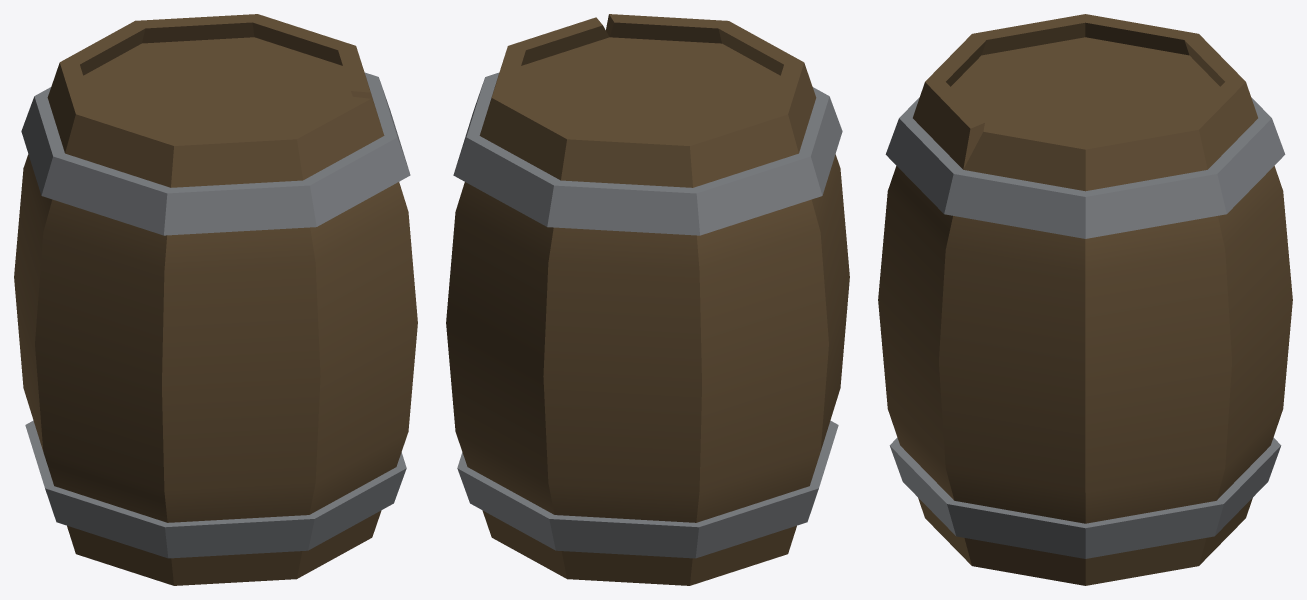
File: Barrel_02.fbx
3 renders of one model, left to right at view 1: azimuth 30°, elevation 25°; view 2: azimuth 150°, elevation 25°; view 3: azimuth 270°, elevation 25°, orthographic.
Visible parts, largest first — view 1: pCylinder1; view 2: pCylinder1; view 3: pCylinder1.
Boxes of the visible parts, <box> form: pCylinder1: <box>14,14,417,585</box>; pCylinder1: <box>446,14,849,585</box>; pCylinder1: <box>878,14,1292,585</box>.
Size of the model in its own units: 67.67 by 78.54 by 67.67.
